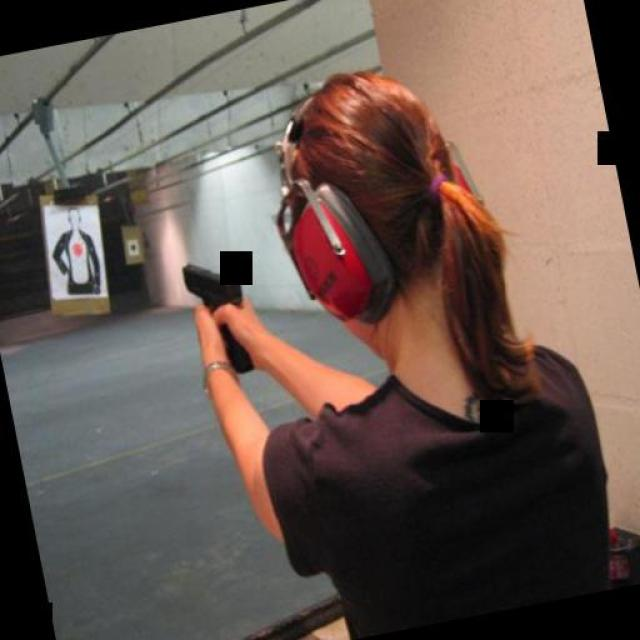gun: (176, 255, 256, 384)
